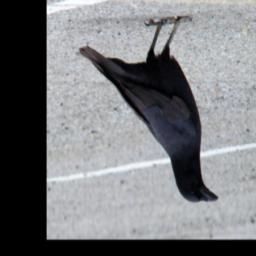Crow: (78, 16, 219, 204)
